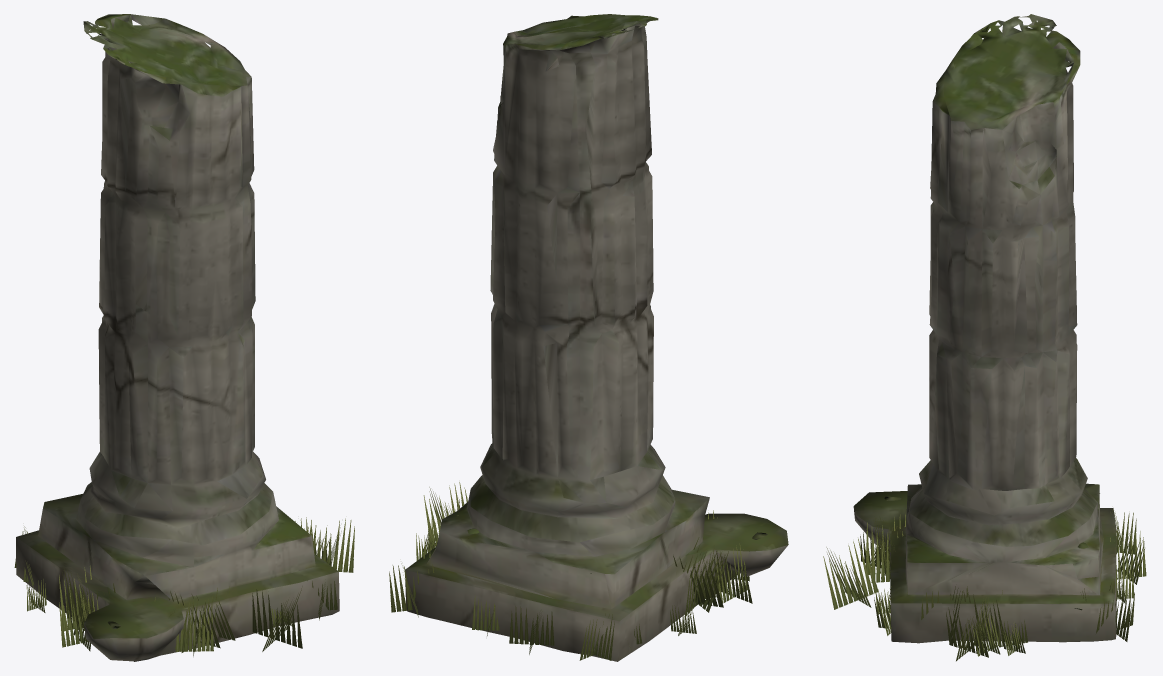
Rendered from ruins_pillar_lod1.glb.
3 renders of one model, left to right at view 1: azimuth 30°, elevation 25°; view 2: azimuth 150°, elevation 25°; view 3: azimuth 270°, elevation 25°, orthographic. The views are drawn at different scales.
Parts seen in each view (by area): view 1: ruins_pillar_lod1; view 2: ruins_pillar_lod1; view 3: ruins_pillar_lod1.
Part boxes in pixels (x1=…): ruins_pillar_lod1: x1=14, y1=14, x2=354, y2=661; ruins_pillar_lod1: x1=389, y1=14, x2=788, y2=661; ruins_pillar_lod1: x1=823, y1=14, x2=1146, y2=661.
Size of the model in its own units: 2.64 by 4.72 by 2.6.
2 materials, 2 textured.
